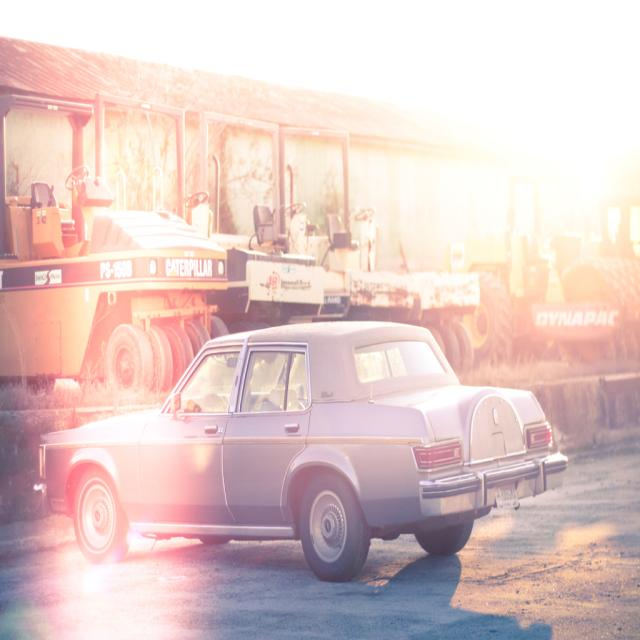car: (38, 325, 551, 575)
